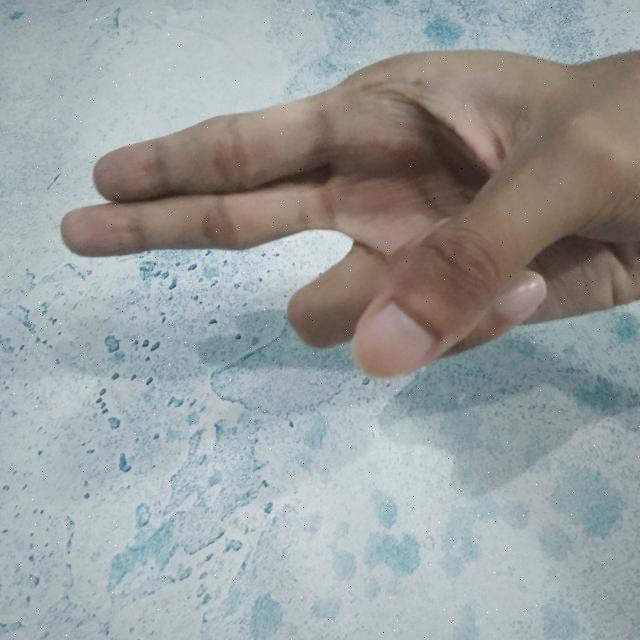H: (54, 35, 640, 386)
